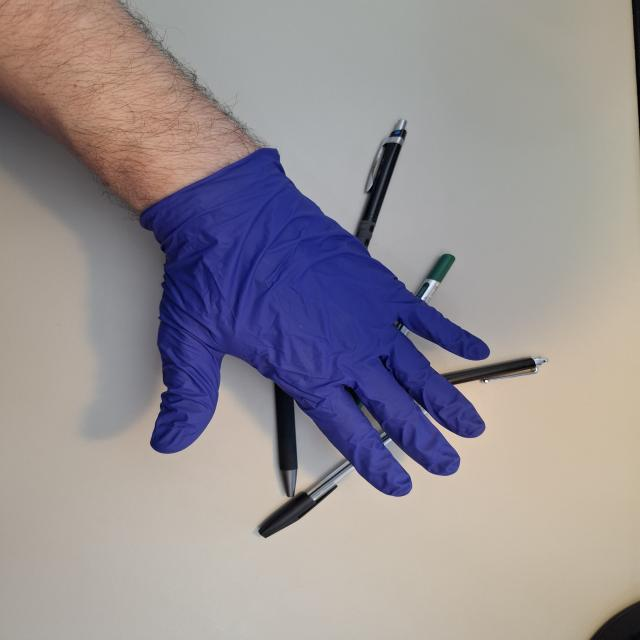glove_on: (134, 143, 493, 498)
